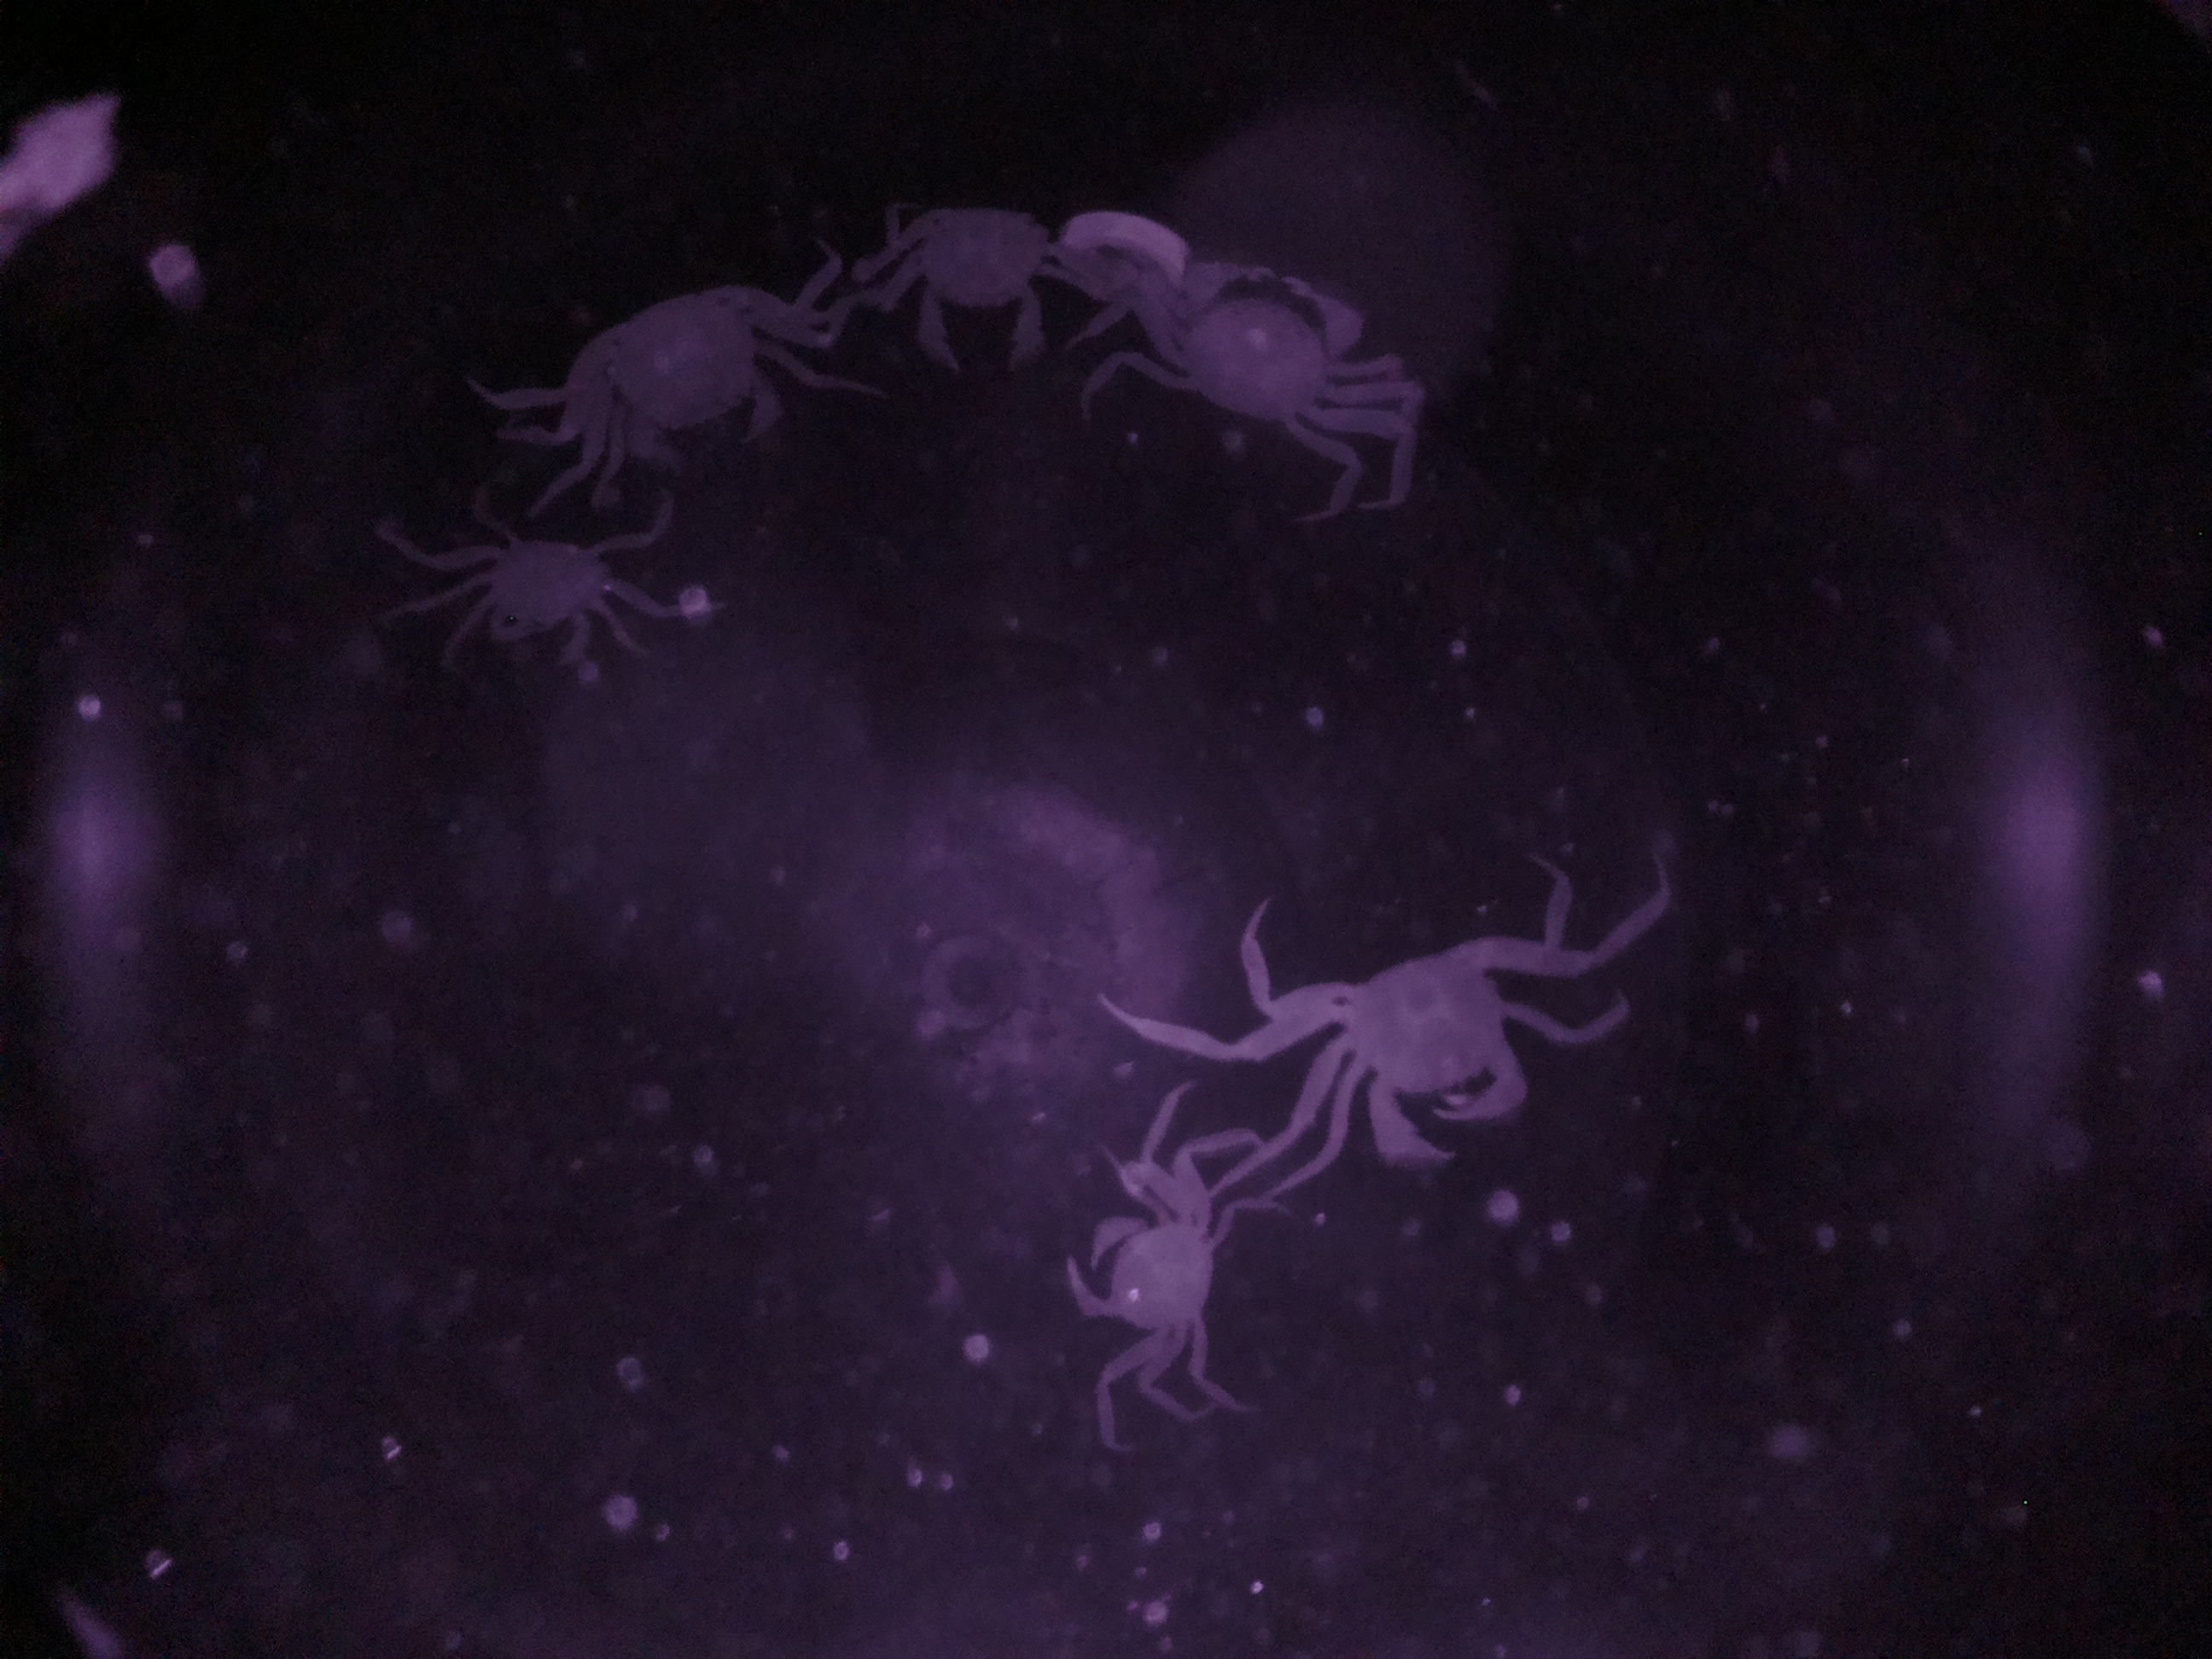Crab: (1275, 920, 1557, 1176), (1125, 242, 1381, 477), (563, 272, 812, 490), (876, 179, 1080, 397), (1057, 1154, 1244, 1371), (427, 514, 671, 676)
